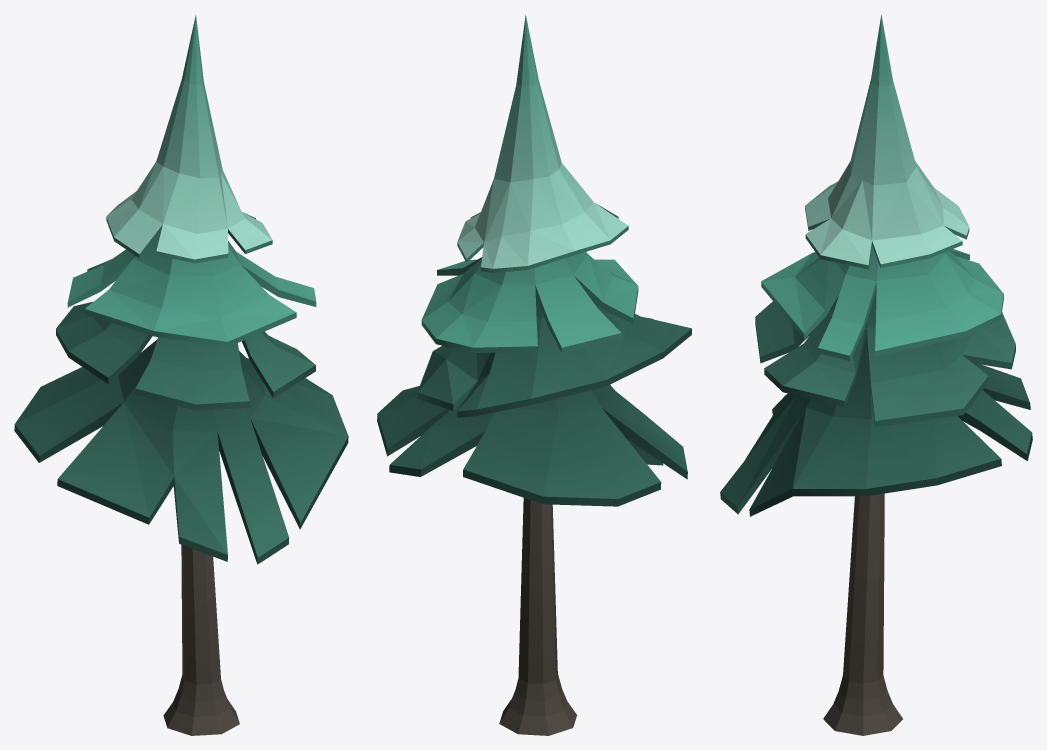
Rendered from ZLP_Plant_K_12.FBX.
The picture shows the model from 3 angles, left to right: view 1: azimuth 30°, elevation 25°; view 2: azimuth 150°, elevation 25°; view 3: azimuth 270°, elevation 25°; orthographic projection.
Visible parts, largest first — view 1: ZLP_Plant_K_12; view 2: ZLP_Plant_K_12; view 3: ZLP_Plant_K_12.
Part boxes in pixels (bbox=[...]): ZLP_Plant_K_12: bbox=[14, 15, 348, 735]; ZLP_Plant_K_12: bbox=[377, 14, 691, 735]; ZLP_Plant_K_12: bbox=[720, 15, 1032, 735].
Size of the model in its own units: 190 by 458 by 184.
